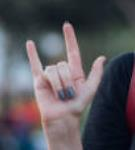back: (25, 21, 106, 113)
